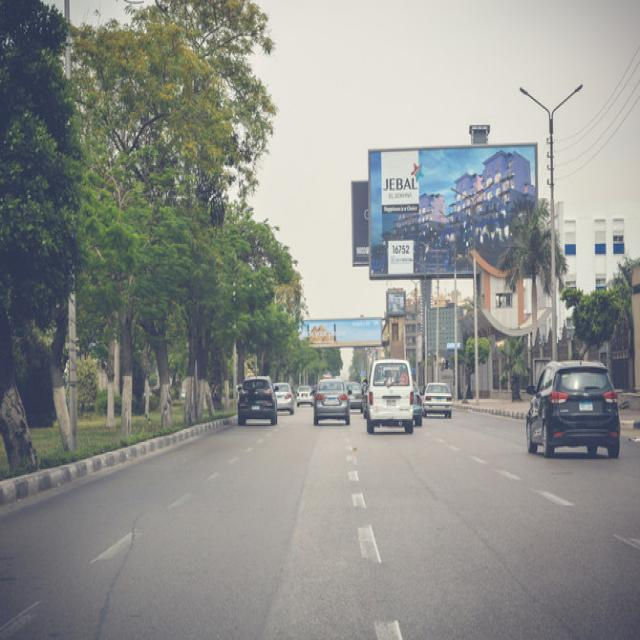Ad-signs: (366, 140, 539, 278)
Car: (525, 359, 620, 458), (237, 376, 277, 425), (313, 377, 350, 425), (421, 382, 452, 418), (272, 382, 294, 413), (345, 380, 362, 410), (295, 385, 313, 406)
MiniBus: (364, 358, 414, 433)
